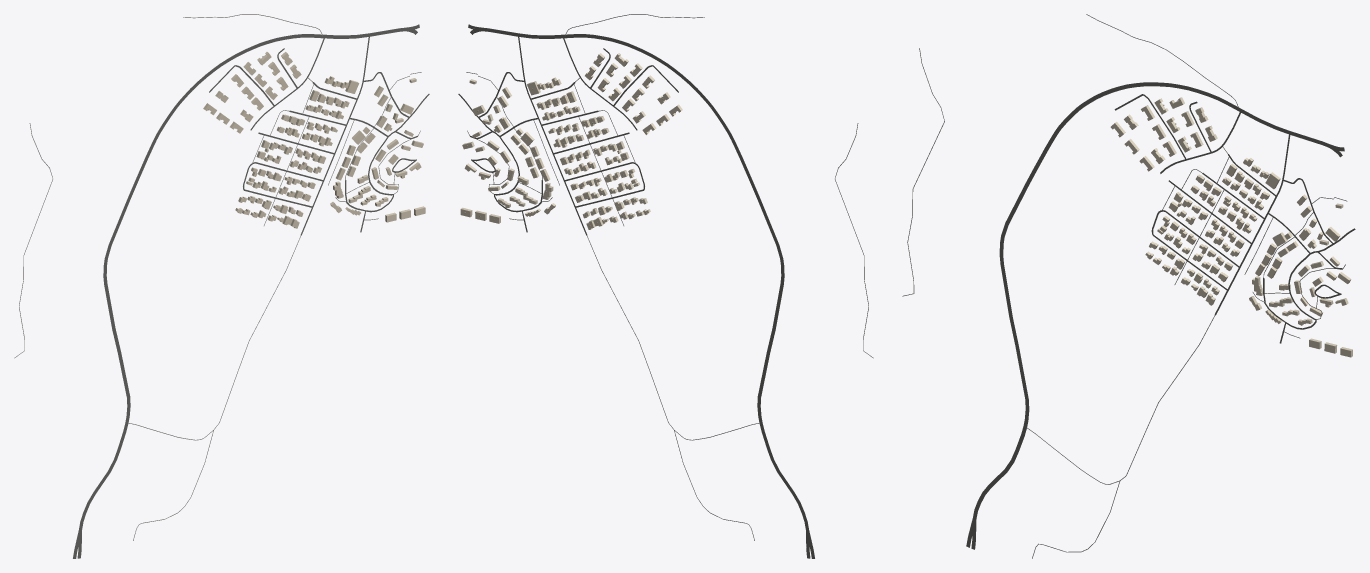
The model's file is historic-palestine-04_21_3459_3155.glb.
The picture shows the model from 3 angles, left to right: view 1: azimuth 30°, elevation 25°; view 2: azimuth 150°, elevation 25°; view 3: azimuth 330°, elevation 25°; orthographic projection. The views are drawn at different scales.
Parts seen in each view (by area): view 1: Road 3523; view 2: Road 3523; view 3: Road 3523.
Boxes of the visible parts, bbox=[...] form: Road 3523: bbox=[79, 28, 404, 529]; Road 3523: bbox=[483, 28, 808, 529]; Road 3523: bbox=[973, 82, 1327, 519].
Size of the model in its own units: 987 by 1171 by 8.7.
